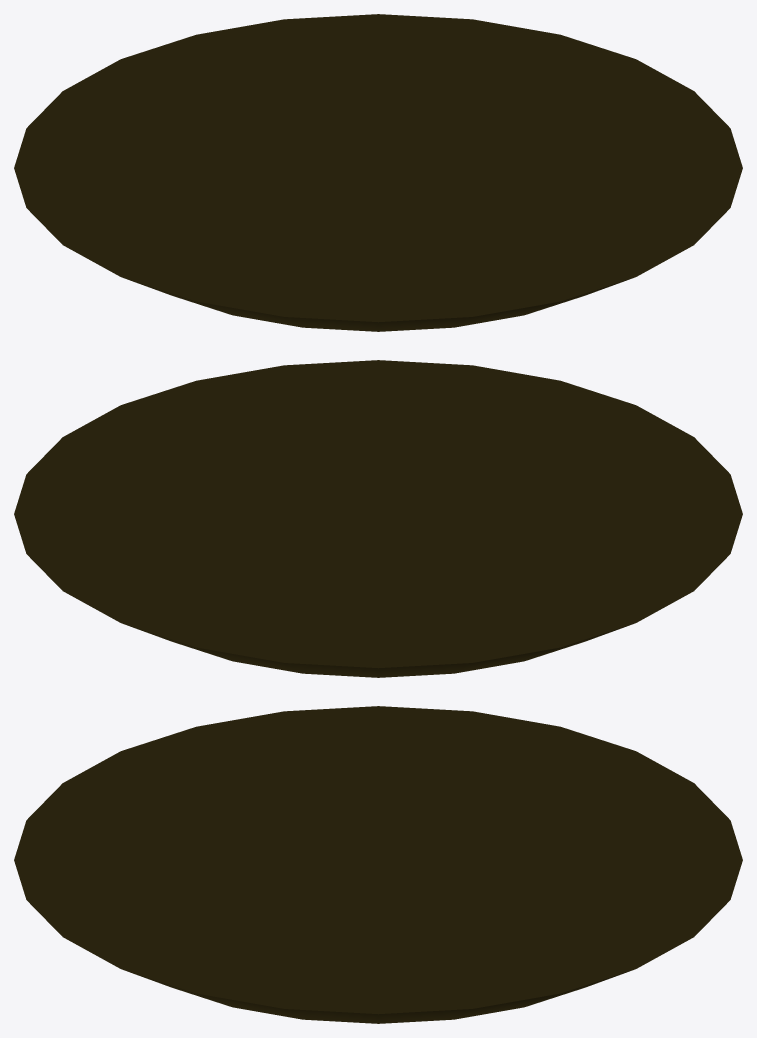
Rendered from mud model.FBX.
The picture shows the model from 3 angles, top to bottom: view 1: azimuth 30°, elevation 25°; view 2: azimuth 150°, elevation 25°; view 3: azimuth 270°, elevation 25°; orthographic projection.
Visible parts, largest first — view 1: Cone001; view 2: Cone001; view 3: Cone001.
Boxes of the visible parts, x1,y1,x2,y2 form: Cone001: (14, 14, 742, 331); Cone001: (14, 360, 742, 677); Cone001: (14, 706, 742, 1023).
Bounding box in the file's own units: 1923 × 304 × 1923.
